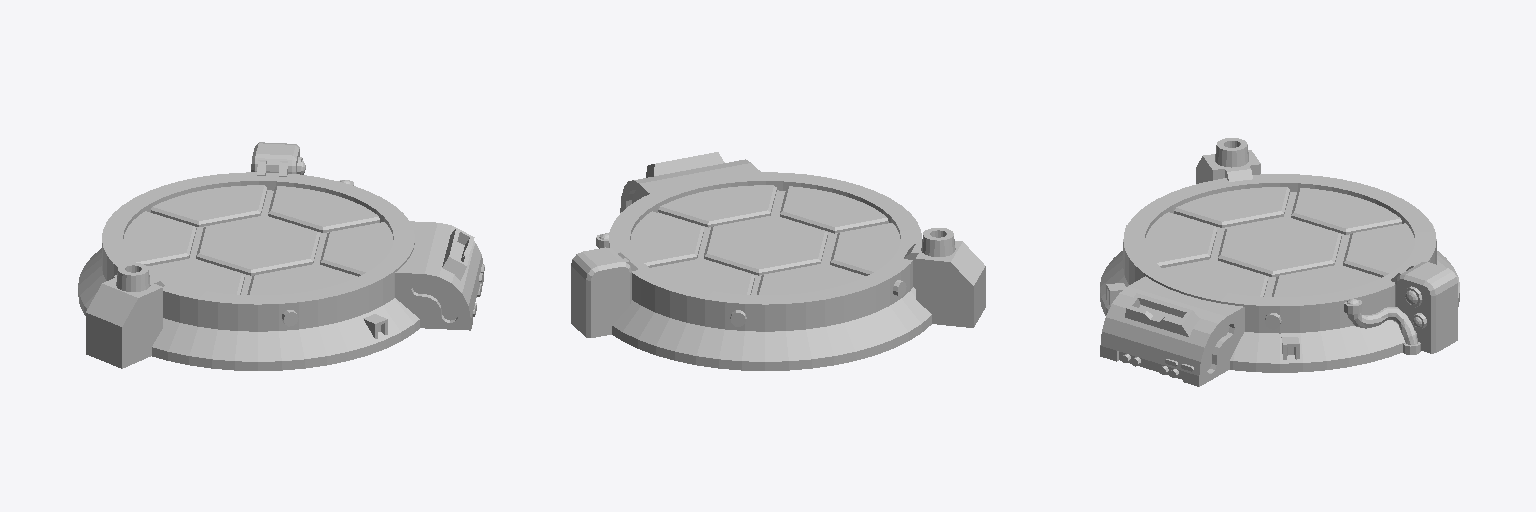
File: pedestal.obj
3 renders of one model, left to right at view 1: azimuth 30°, elevation 25°; view 2: azimuth 150°, elevation 25°; view 3: azimuth 270°, elevation 25°, orthographic.
Parts seen in each view (by area): view 1: wavefront obj; view 2: wavefront obj; view 3: wavefront obj.
Part boxes in pixels (x1,y1,x2,y2): wavefront obj: (78, 142, 484, 370); wavefront obj: (571, 152, 985, 370); wavefront obj: (1100, 138, 1459, 386).
Size of the model in its own units: 2.33 by 0.477 by 1.94.